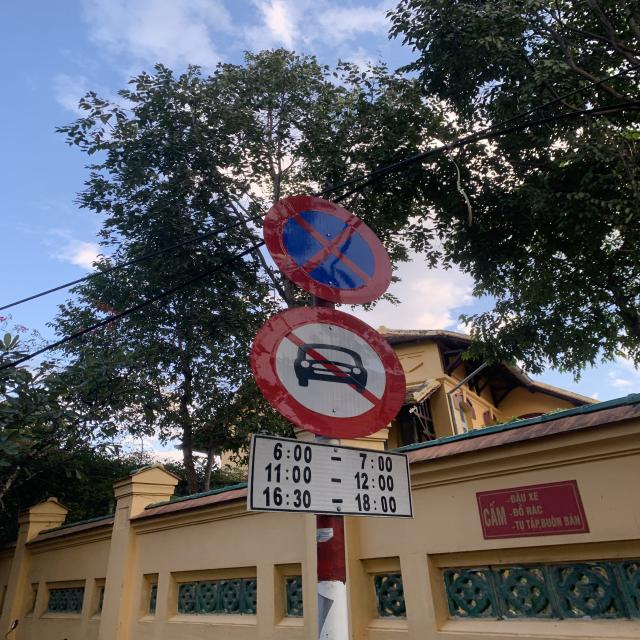Cam_Dung_Va_Dau_Xe: (263, 193, 393, 304)
Cam_O_To: (249, 306, 408, 439)
